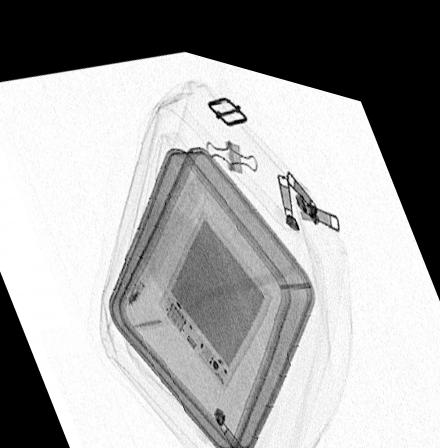Powerbank: (158, 198, 273, 379)
